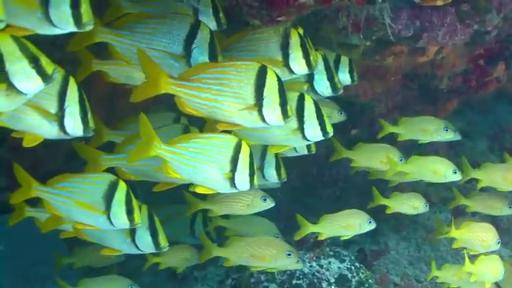Fish: (131, 51, 291, 129), (129, 114, 256, 193), (10, 164, 140, 229), (67, 13, 219, 66), (0, 68, 95, 147), (72, 135, 190, 191), (233, 92, 333, 151), (60, 204, 168, 255), (220, 26, 319, 79), (0, 32, 56, 112), (103, 0, 227, 31), (200, 235, 298, 270), (3, 0, 94, 35), (76, 45, 145, 85), (285, 52, 343, 99), (329, 138, 405, 171), (294, 209, 375, 239), (155, 204, 215, 244), (185, 189, 275, 215), (377, 116, 461, 143), (387, 156, 462, 183), (440, 220, 501, 253), (8, 202, 72, 232), (56, 244, 125, 270), (368, 187, 429, 215), (449, 188, 511, 215), (208, 215, 282, 237), (462, 158, 511, 191), (88, 116, 139, 147), (251, 145, 287, 188), (144, 244, 199, 272), (462, 253, 504, 287), (323, 50, 358, 86), (428, 260, 470, 285), (368, 170, 419, 186), (76, 275, 139, 287), (316, 99, 347, 123), (278, 142, 316, 157), (264, 259, 303, 271)
